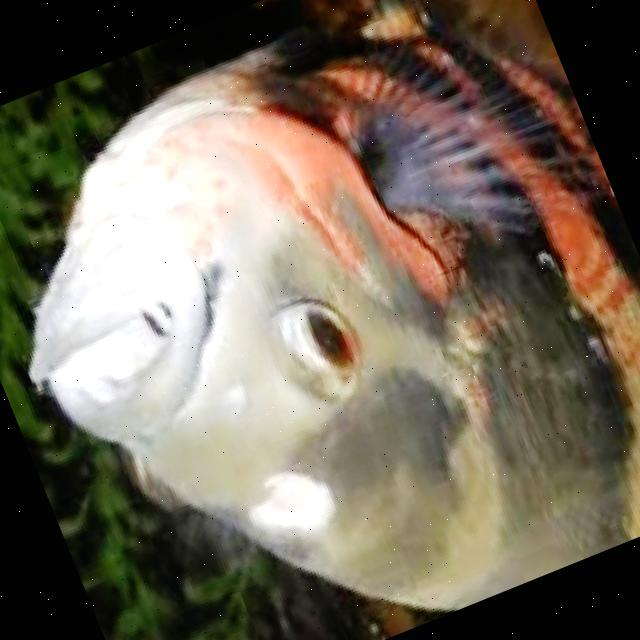Fungal Disease -Saprolegniasis-: (29, 0, 640, 610), (33, 0, 640, 610), (33, 0, 640, 610)
